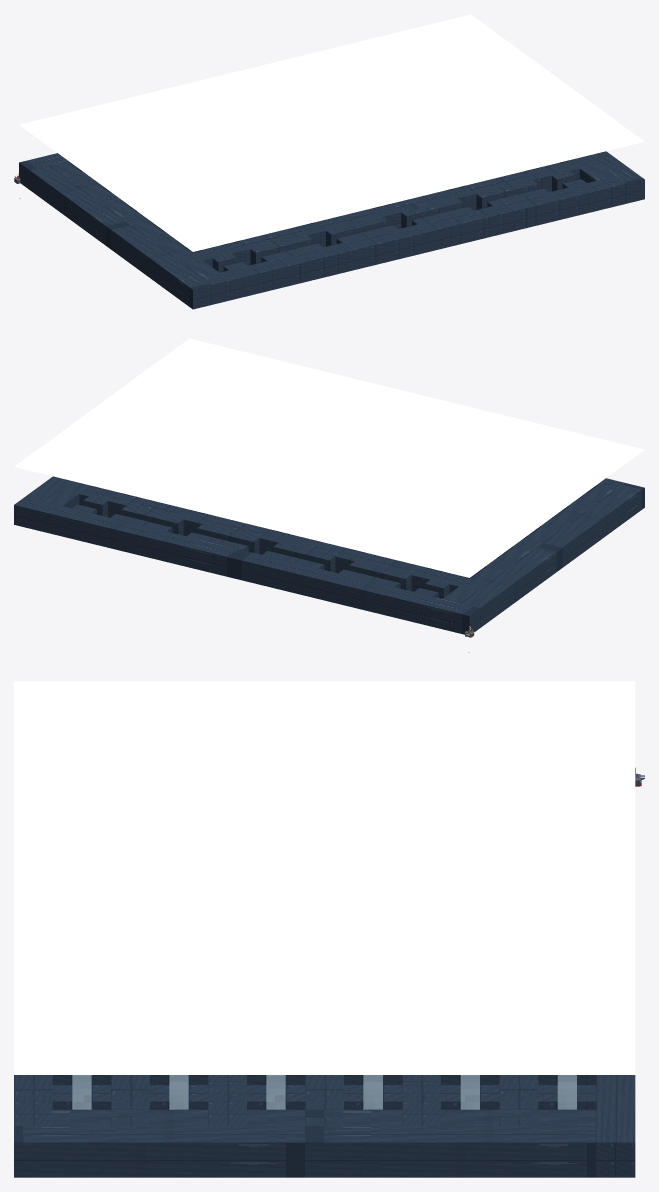
The model's file is level.gltf.
The picture shows the model from 3 angles, top to bottom: view 1: azimuth 30°, elevation 25°; view 2: azimuth 150°, elevation 25°; view 3: azimuth 270°, elevation 25°; orthographic projection. The views are drawn at different scales.
Parts seen in each view (by area): view 1: PROP_SECTOR_0, PROP_SECTOR_1, PROP_SECTOR_3, PROP_SECTOR_2, PROP_SECTOR_5; view 2: PROP_SECTOR_0, PROP_SECTOR_1, PROP_SECTOR_3, PROP_SECTOR_2; view 3: PROP_SECTOR_0, PROP_SECTOR_1, PROP_SECTOR_2.
Boxes of the visible parts, x1,y1,x2,y2 form: PROP_SECTOR_0: (19, 14, 644, 309); PROP_SECTOR_1: (66, 151, 644, 297); PROP_SECTOR_3: (37, 161, 477, 309); PROP_SECTOR_2: (291, 171, 597, 246); PROP_SECTOR_5: (326, 190, 461, 231); PROP_SECTOR_0: (14, 338, 644, 634); PROP_SECTOR_1: (25, 477, 596, 598); PROP_SECTOR_3: (405, 479, 643, 607); PROP_SECTOR_2: (98, 495, 421, 590); PROP_SECTOR_0: (14, 681, 635, 1177); PROP_SECTOR_1: (14, 1075, 596, 1142); PROP_SECTOR_2: (14, 1075, 537, 1109).
Size of the model in its own units: 290 by 45 by 195.
2 materials, 2 textured.
